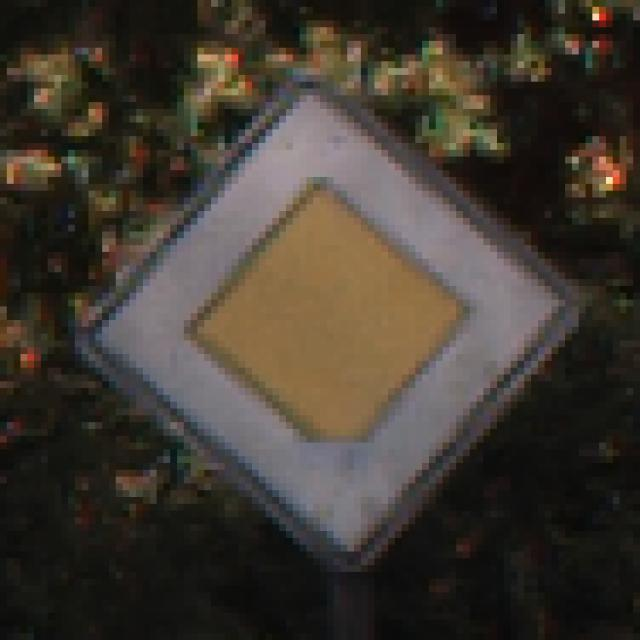Main Road: (56, 55, 587, 580)
